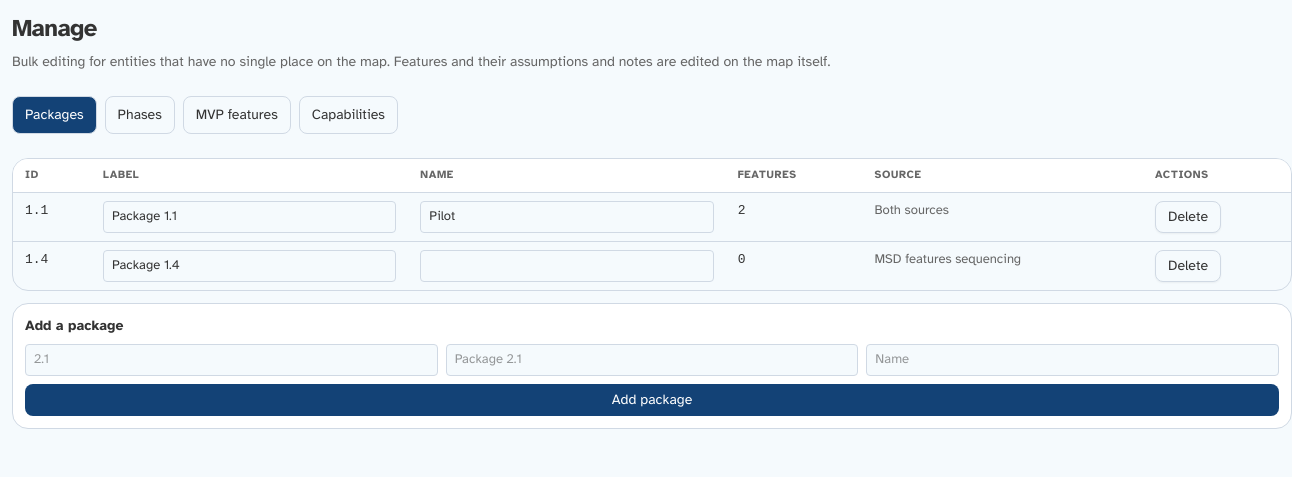
Manage — renaming a release label › surfaces the server’s refusal of an empty label
Expected: the table named "packages" is shown, [13,159,1291,290]
Clear the field named "Label for release 1.1" at (250, 216), box [103,200,396,232]
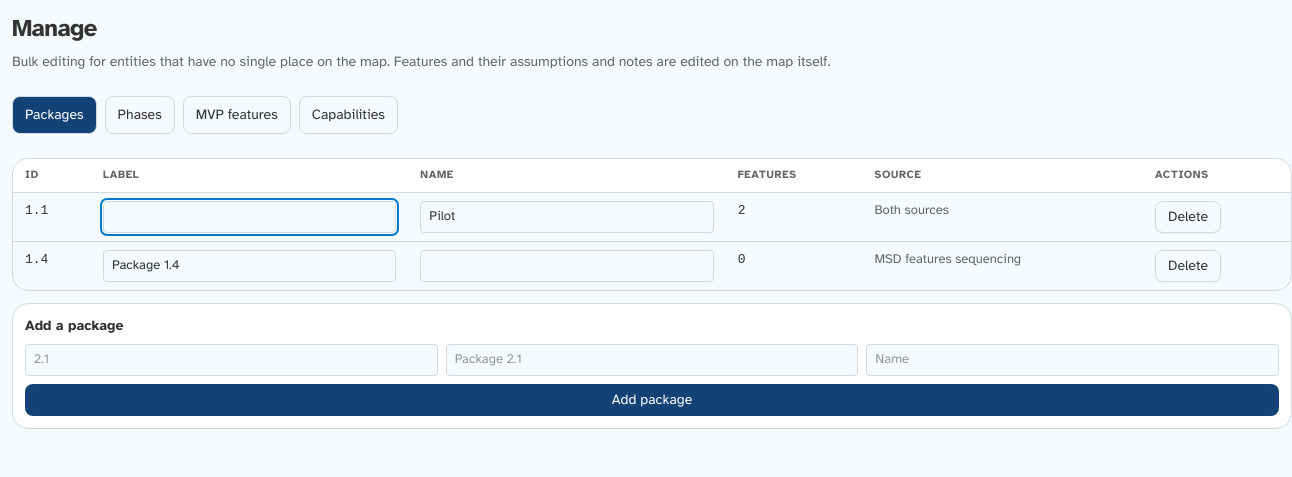
Press Tab
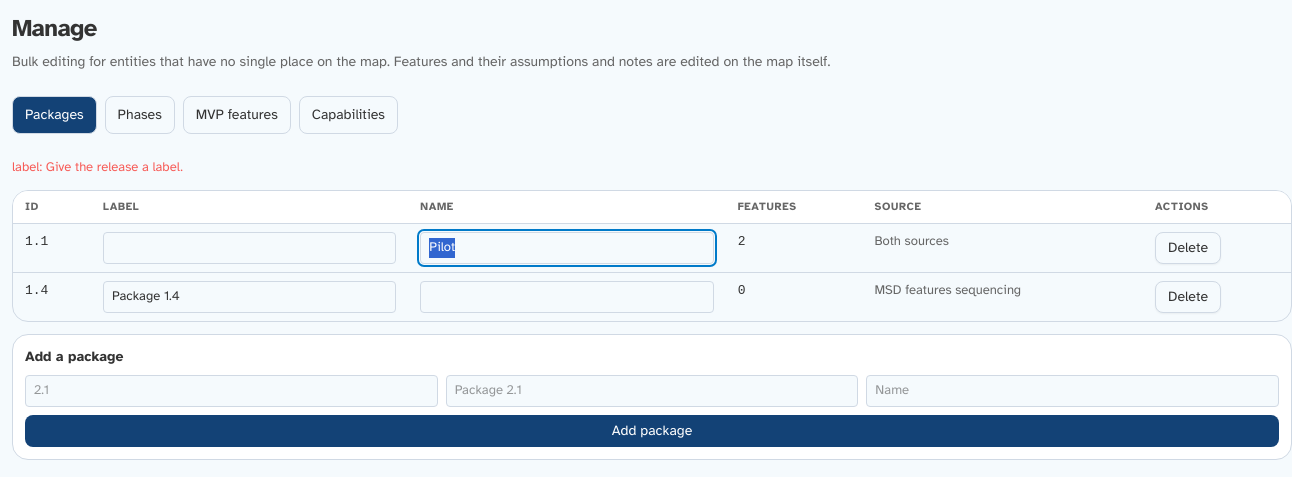
Expected: the message shows "Give the release a label", [12,159,183,175]
